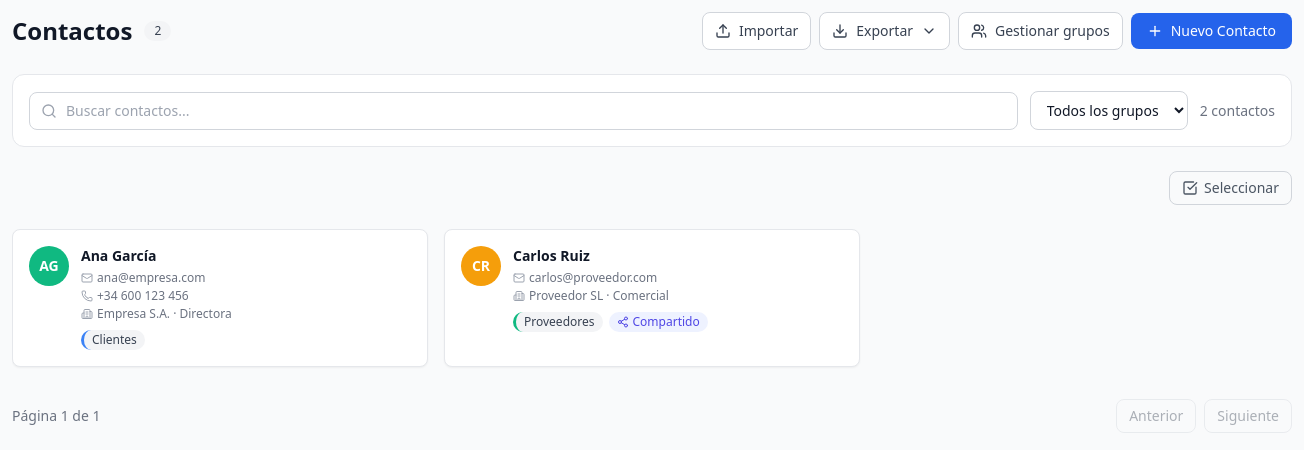
it: ContactsPage › filtra por empresa
Type "Proveedor" into the field with placeholder "Buscar contactos..." at (523, 110), box [29, 92, 1018, 130]
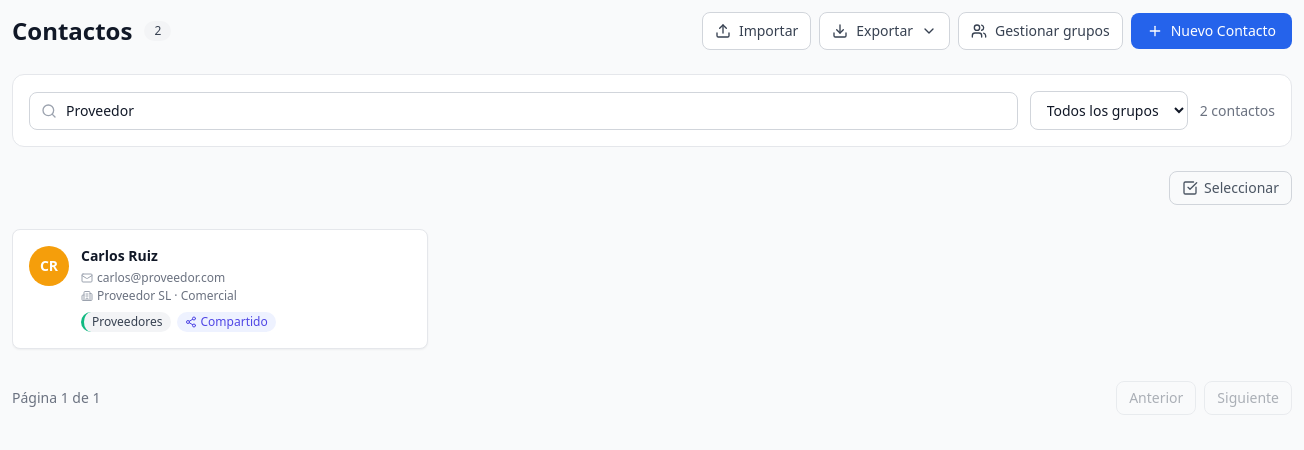
Expected: the heading "Carlos Ruiz" is shown, [81, 246, 158, 266]
Expected: the heading "Ana García" is gone
